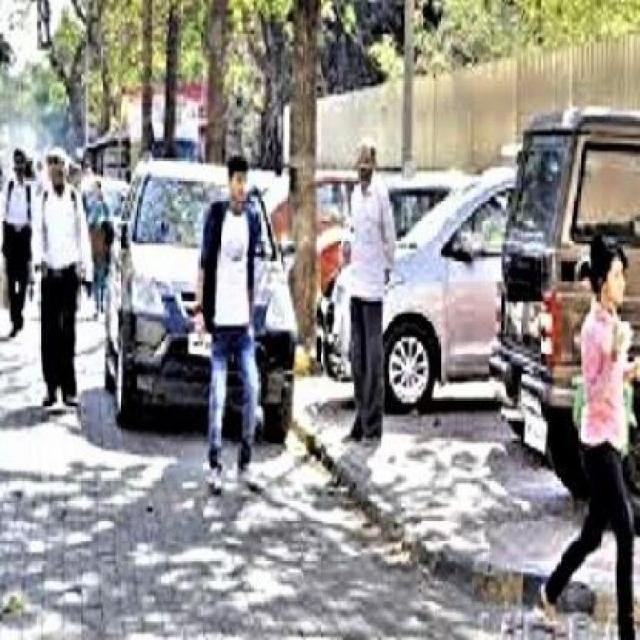Person: (536, 227, 638, 638), (200, 147, 271, 499), (337, 136, 398, 449), (34, 158, 94, 413), (0, 145, 34, 337)
